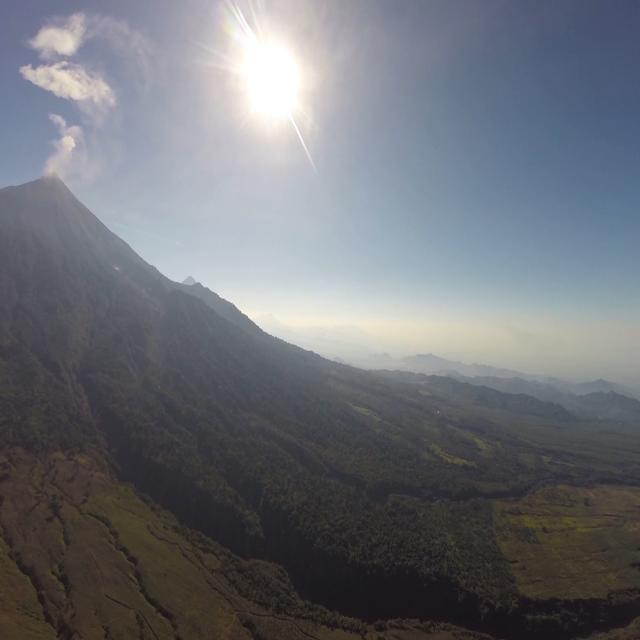Plume: (14, 64, 118, 104), (43, 108, 88, 184), (27, 12, 88, 60)
Summit: (31, 168, 74, 198)
